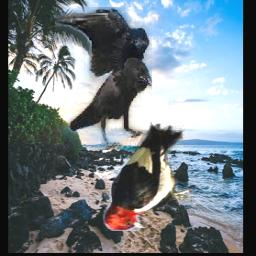Crow: (55, 8, 152, 151)
Woodpecker: (102, 123, 193, 232)
